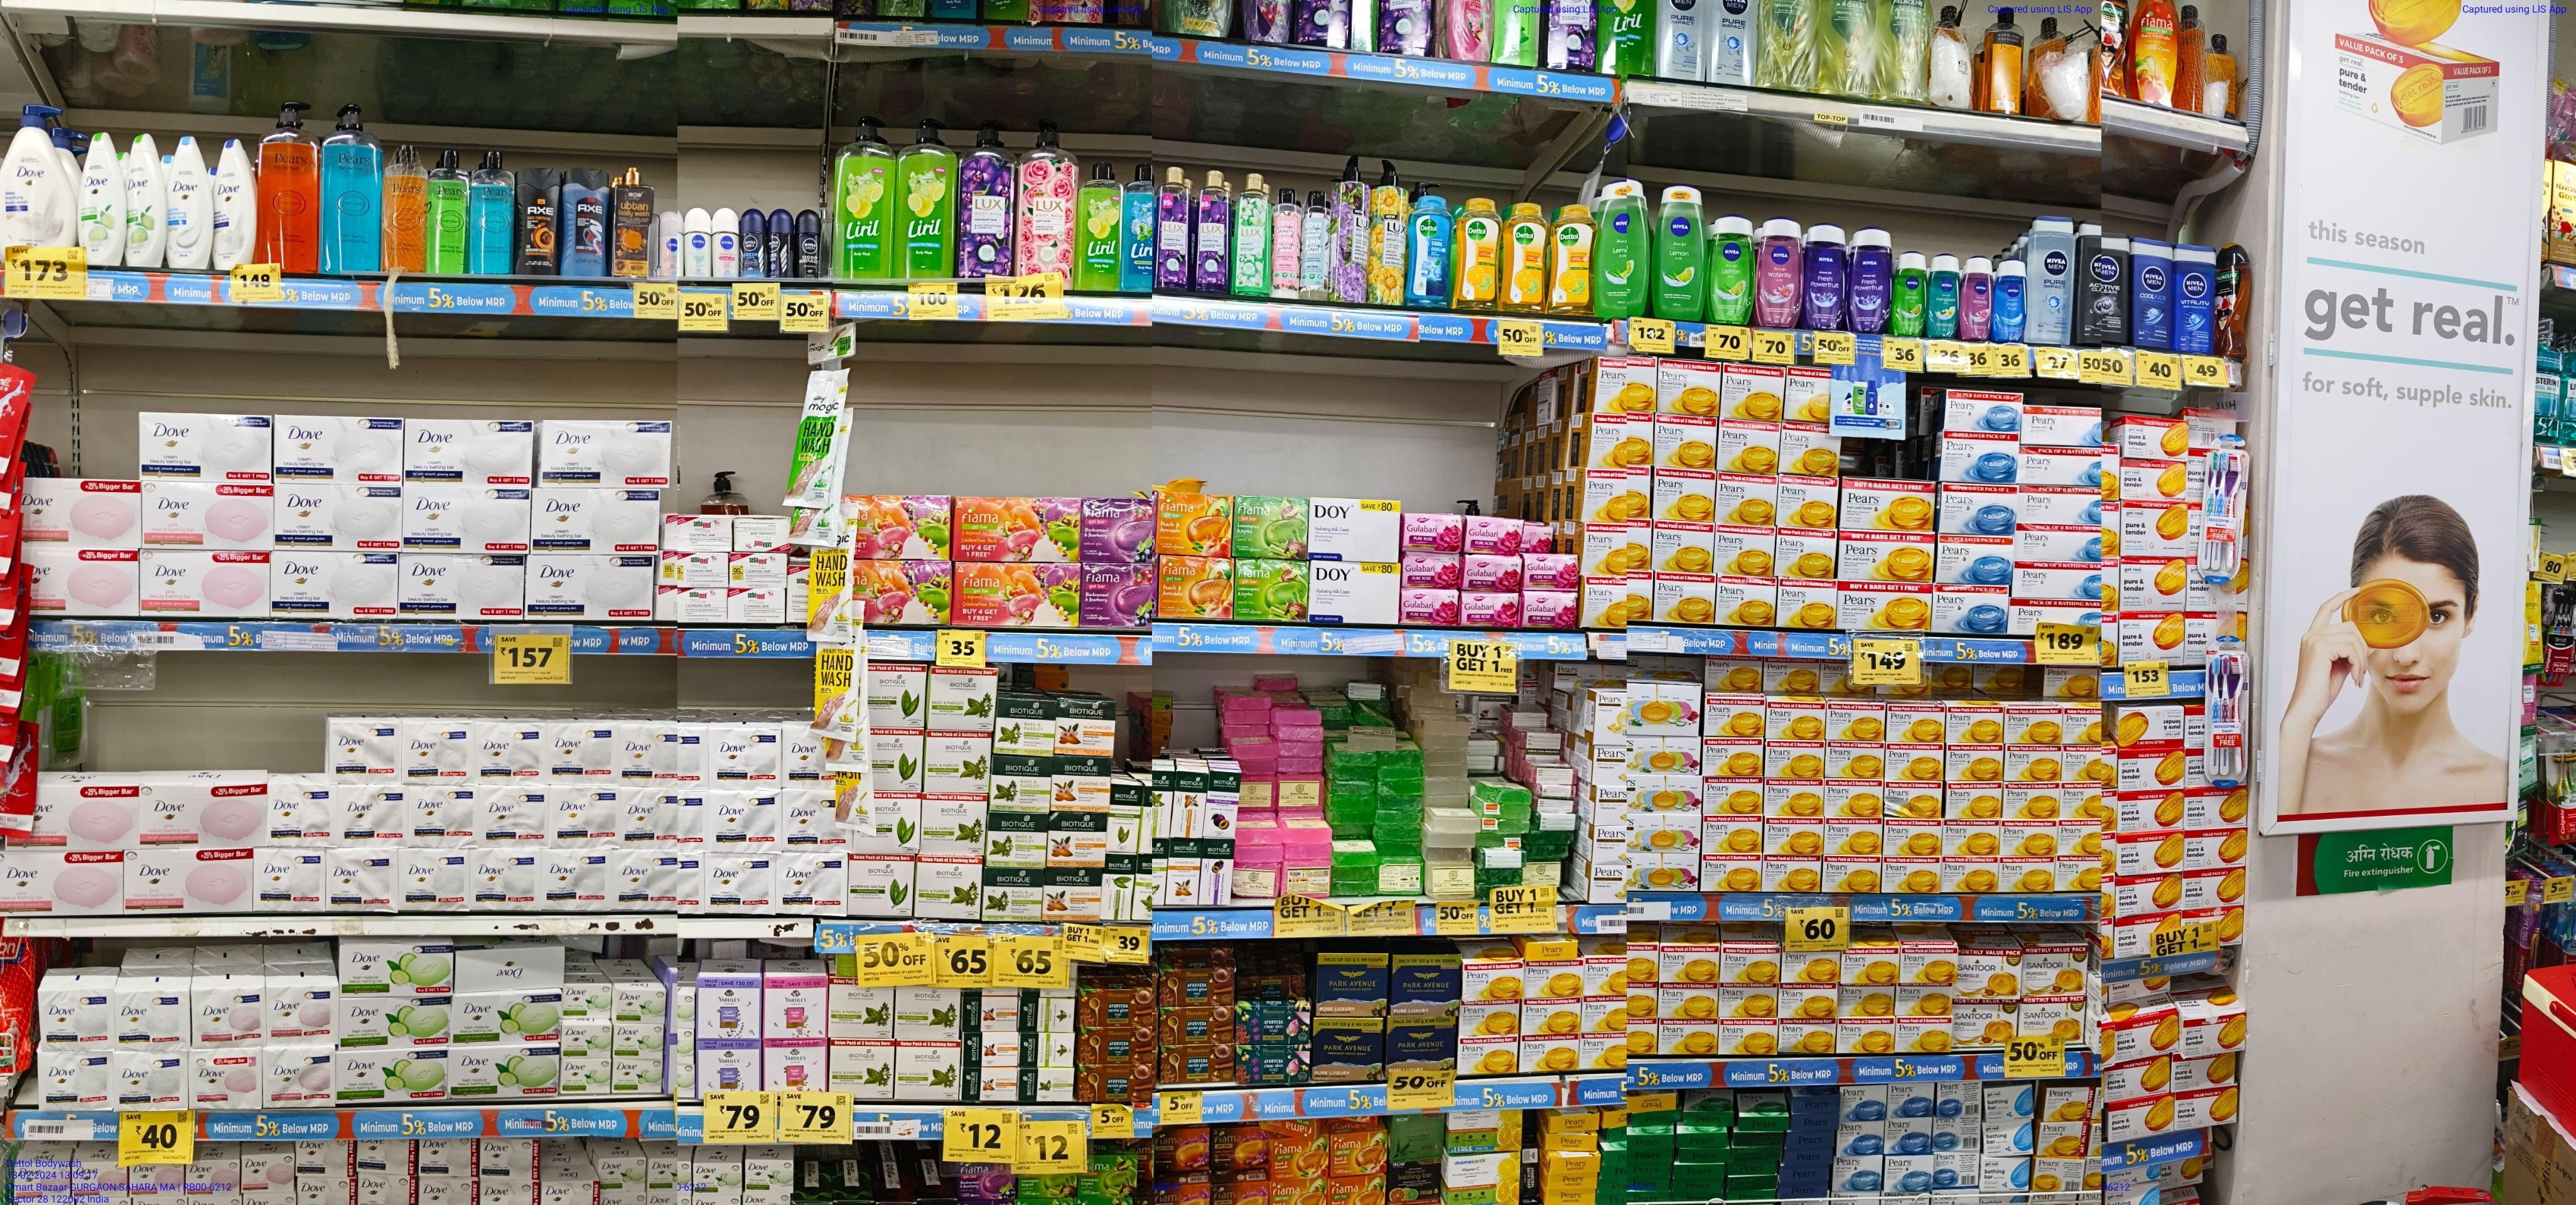Dettol_Bodywash_Cool: (1405, 195, 1451, 309)
Dettol_Bodywash_Refresh: (1549, 202, 1592, 317), (1456, 197, 1498, 310), (1502, 204, 1544, 314)
Dove_Deep_Moisture_Body_Wash_250ML: (215, 133, 251, 268)
Dove_Gentle_Exfoliating_Body_Wash_250ML: (168, 133, 215, 269)
Dove_Refreshing_Body_Wash_250ML: (77, 133, 126, 266), (126, 135, 166, 266)
Liril_Cooling_Mint_Body_Wash_250ML: (1122, 159, 1152, 292)
Liril_Lime_and_Tea_Tree_Oil_Body_Wash_250ML: (1081, 163, 1120, 289)
Lux_Black_Orchid_Scent_and_Juniper_Oil_Body_Wash_245ML: (1194, 167, 1231, 294), (1155, 166, 1189, 292)
Lux_Body_Wash_Skin_Detox_Freesia_Scent_and_Alove_Vera_245ML: (1232, 167, 1272, 299)
Nivea_Shower_Gel_Fresh_Powerfruit_250ML: (1807, 225, 1848, 328), (1851, 230, 1891, 332)
Nivea_Shower_Gel_Lemon_and_Oil_250ML: (1597, 177, 1649, 318), (1654, 187, 1705, 318), (1709, 217, 1751, 323)
Nivea_Shower_Gel_Waterlily_and_Oil_250ML: (1758, 217, 1802, 328)
Palmolive_Luminous_Oils_With_White_Orchid_Shower_Gel_250ML: (2216, 243, 2251, 358)
Pears_Pure_Glycerin_and_Lemon_Flower_Extracts_Body_Wash_250ML: (427, 151, 467, 274)
Pears_Pure_Glycerin_and_Mint_Extracts_Body_Wash_250ML: (472, 151, 511, 276)
